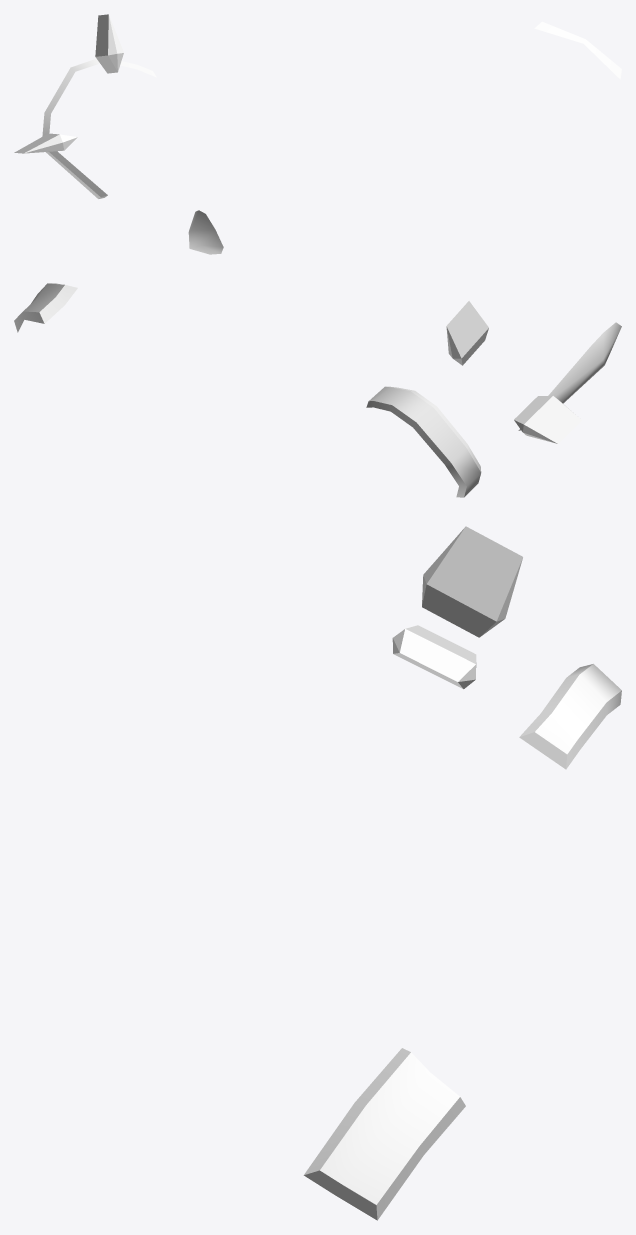
File: ama_ship_wreck_01_07.glb
3 renders of one model, top to bottom at view 1: azimuth 30°, elevation 25°; view 2: azimuth 150°, elevation 25°; view 3: azimuth 270°, elevation 25°, orthographic. The views are drawn at different scales.
Parts seen in each view (by area): view 1: ama_ship_wreck_01_07_LOD0; view 2: ama_ship_wreck_01_07_LOD0; view 3: ama_ship_wreck_01_07_LOD0.
Part boxes in pixels (bbox=[...]): ama_ship_wreck_01_07_LOD0: bbox=[14, 14, 621, 254]; ama_ship_wreck_01_07_LOD0: bbox=[14, 283, 621, 497]; ama_ship_wreck_01_07_LOD0: bbox=[303, 526, 621, 1220].
Size of what is drawn, in the model's own units: 4.28 by 1.35 by 2.24.
Materials: 1 (1 with a texture image).
